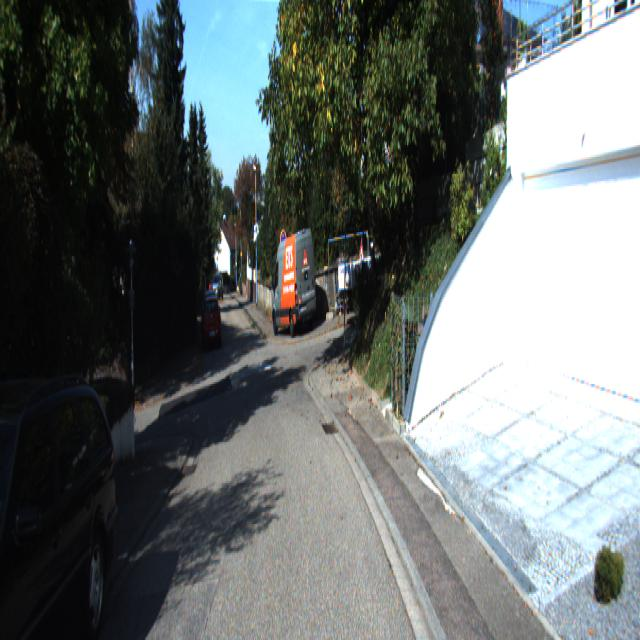Car: (0, 367, 132, 638), (271, 227, 318, 338), (200, 295, 223, 354)
